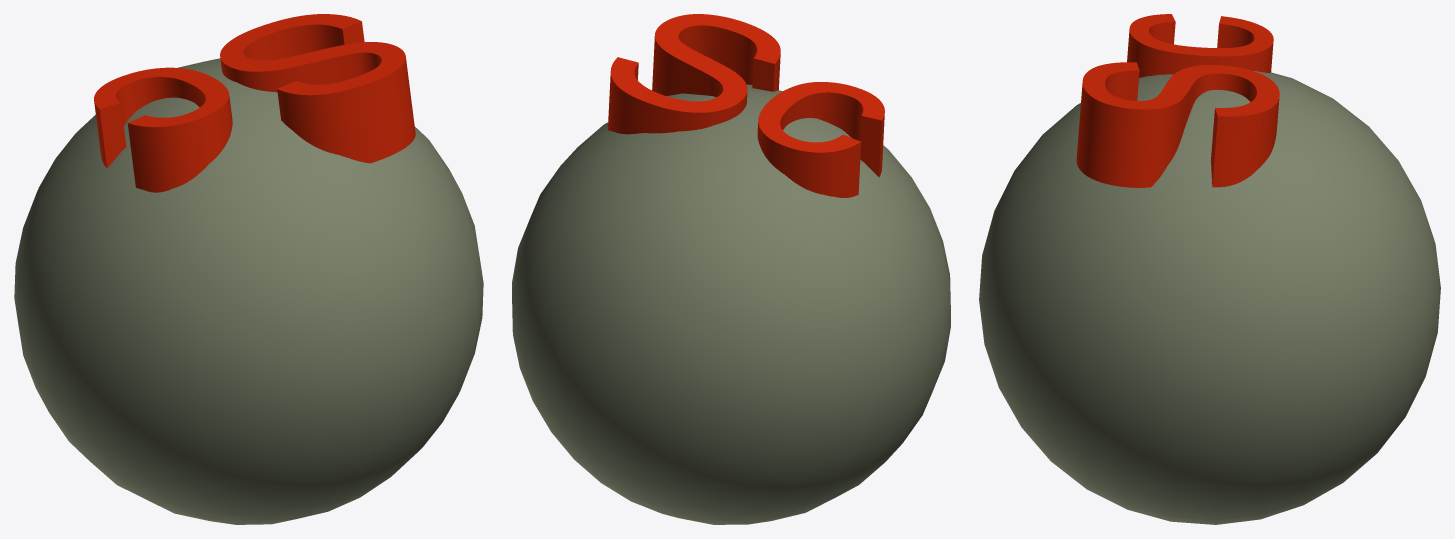
The picture shows the model from 3 angles, left to right: view 1: azimuth 30°, elevation 25°; view 2: azimuth 150°, elevation 25°; view 3: azimuth 270°, elevation 25°; orthographic projection. The views are drawn at different scales.
Parts seen in each view (by area): view 1: Sc; view 2: Sc; view 3: Sc.
Part boxes in pixels (<box>): Sc: <box>14,14,483,524</box>; Sc: <box>512,14,950,524</box>; Sc: <box>979,14,1440,524</box>.
Size of the model in its own units: 38.64 by 41.53 by 38.72.
